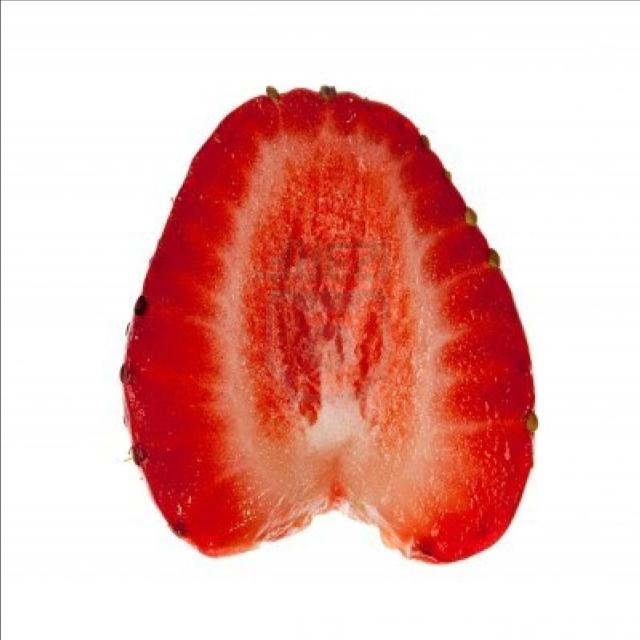strawberry: (100, 62, 552, 578)
